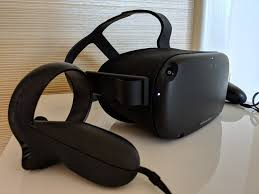oculus: (97, 42, 232, 142)
